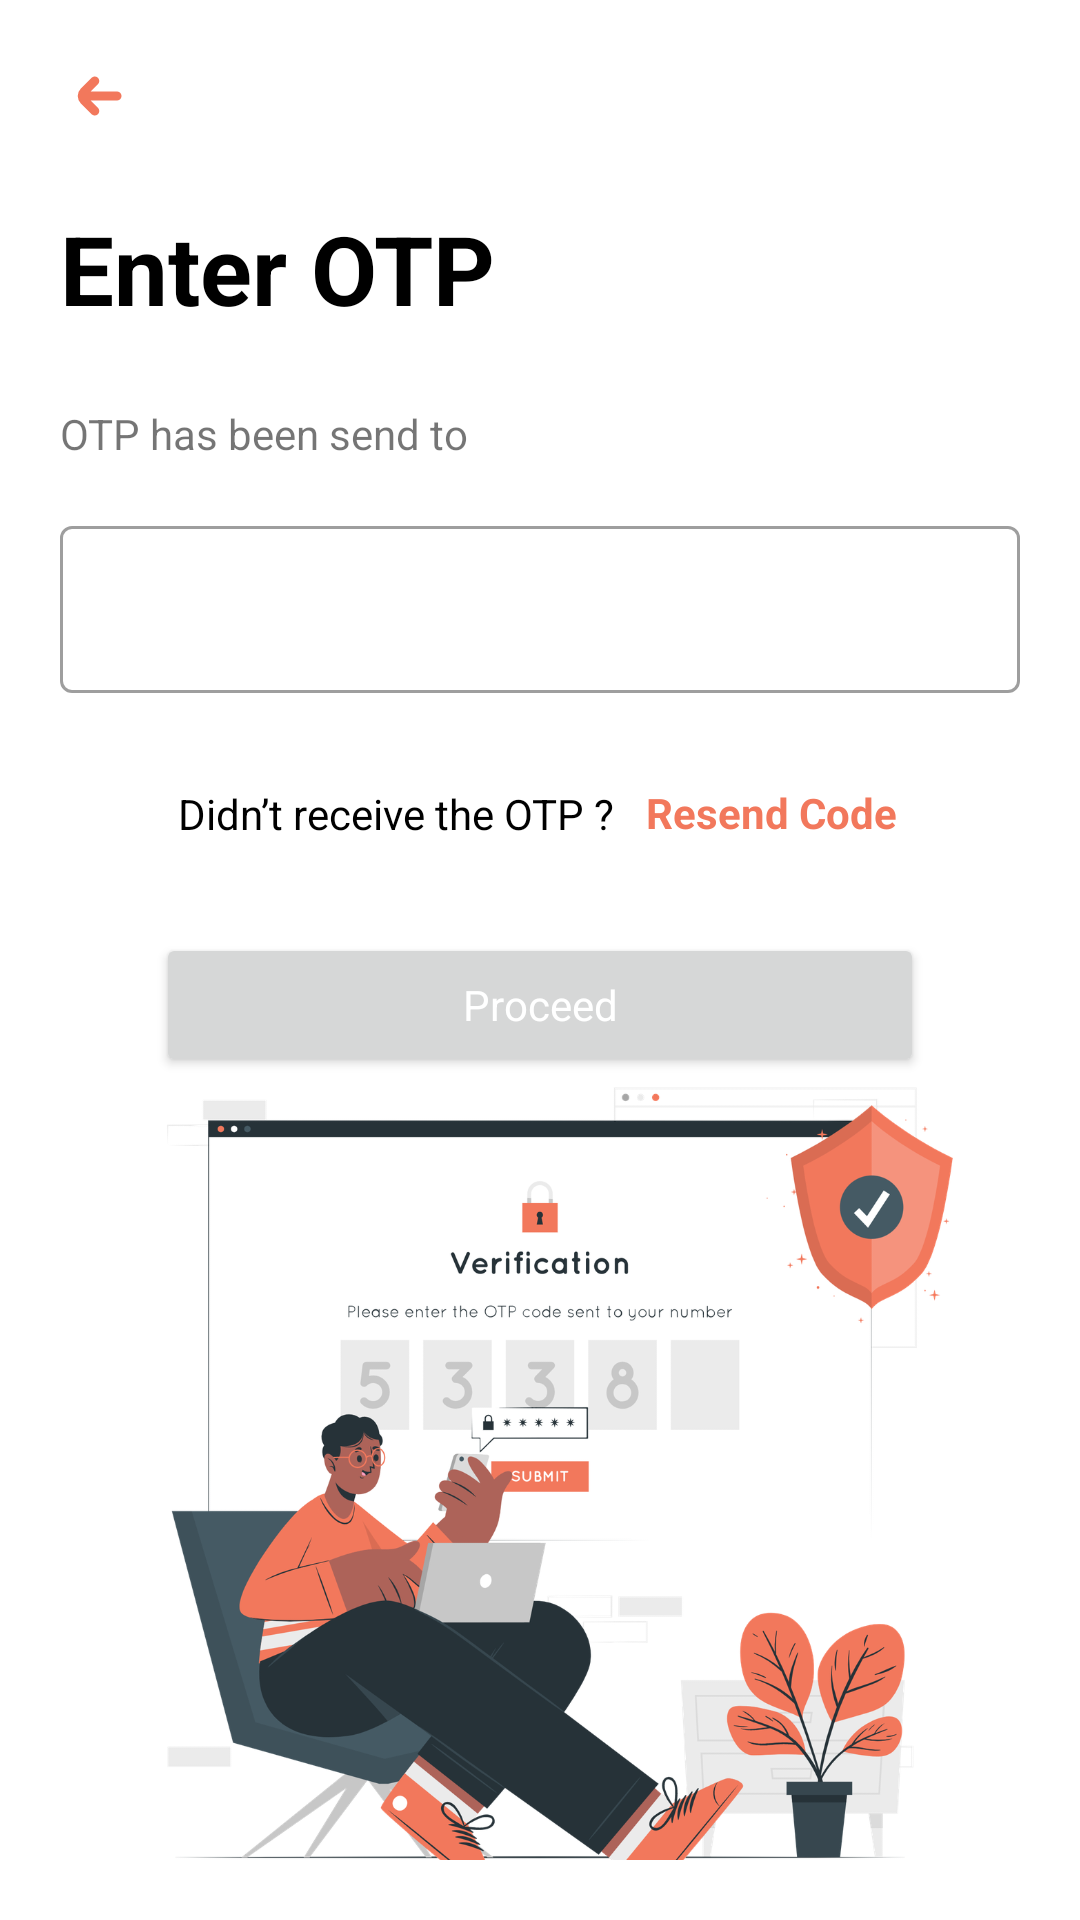

Screen size 1080 × 1920. Icon name, then its center in pixels as (x=x, y=y):
backarrow: (x=99, y=96)
